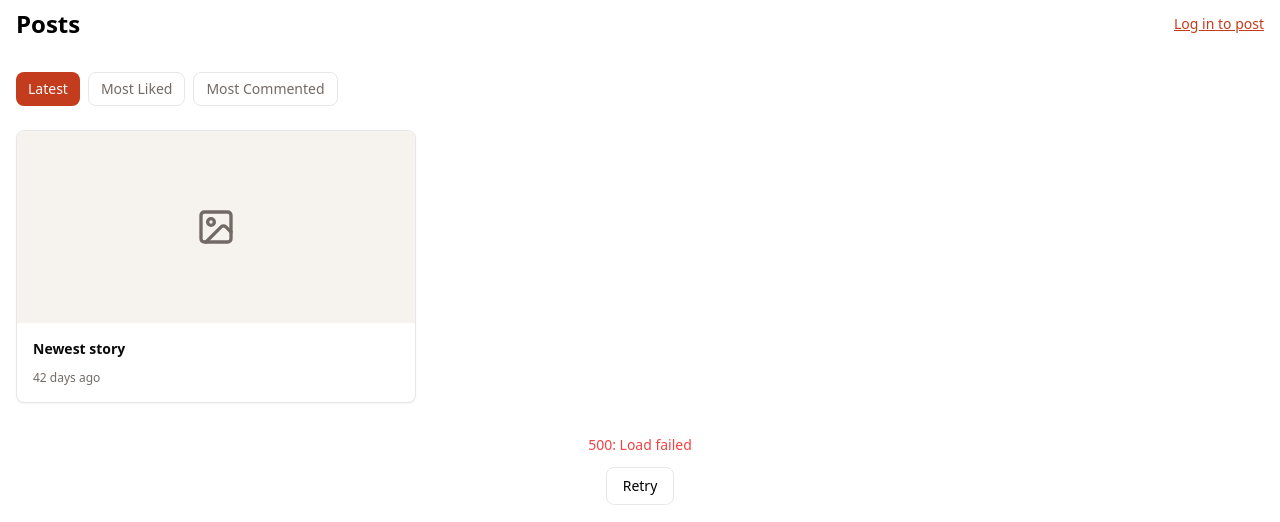
Scenario: PostsPage › offers a retry after a load-more failure and resumes auto-loading
The width and height of the screenshot is (1280, 522).
Expected: the heading "Newest story" is shown, [33, 339, 125, 358]
Expected: the text "500: Load failed" is shown, [588, 435, 692, 454]
Click the button "Retry" at (640, 486), box [606, 467, 674, 505]
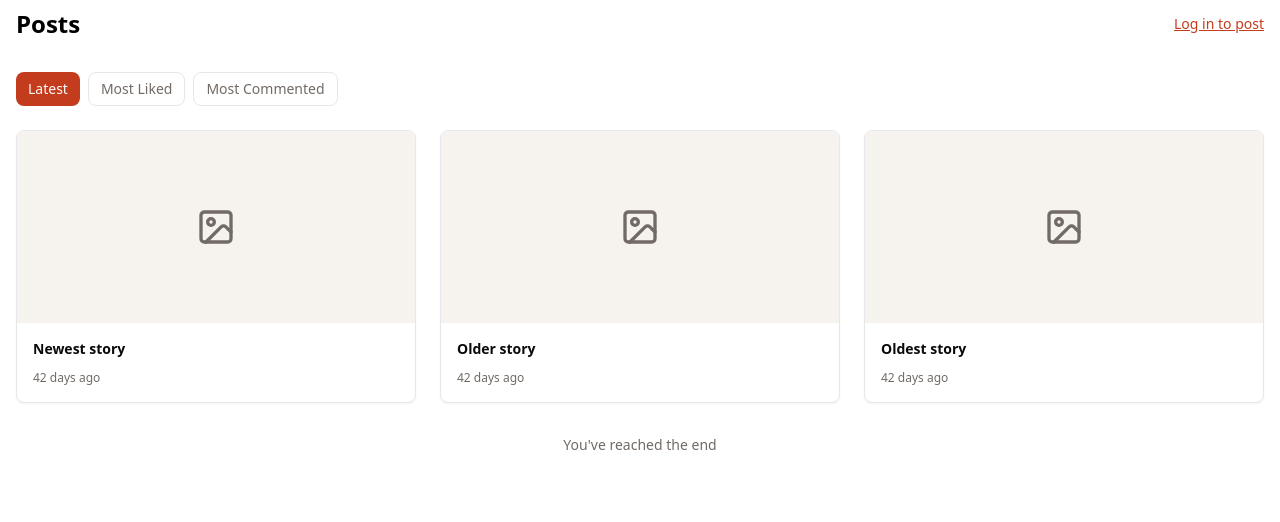
Expected: the heading "Older story" is shown, [457, 339, 536, 358]
Expected: the text "500: Load failed" is gone
Expected: the heading "Oldest story" is shown, [881, 339, 966, 358]
